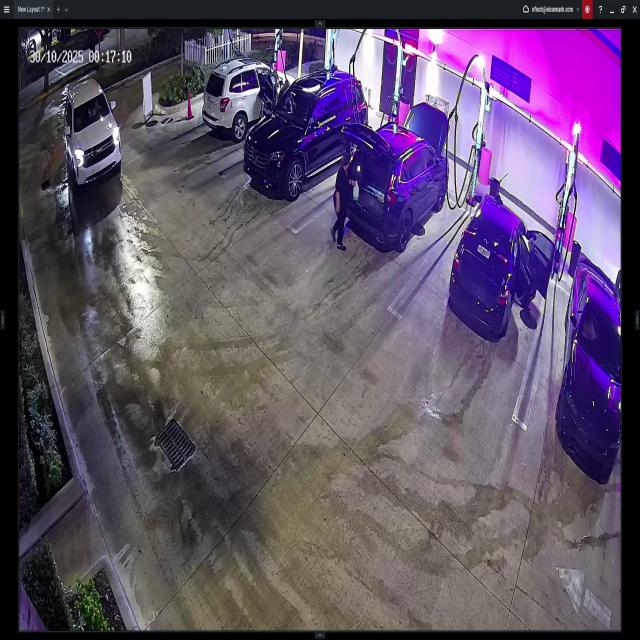Car: (348, 102, 448, 253), (452, 194, 552, 344), (246, 72, 368, 193), (557, 247, 620, 478), (202, 54, 300, 140), (57, 73, 122, 194)
